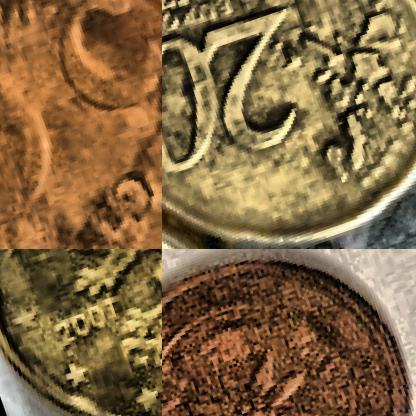coin: (162, 0, 415, 248), (162, 249, 415, 415), (0, 0, 161, 248), (0, 249, 161, 415)
